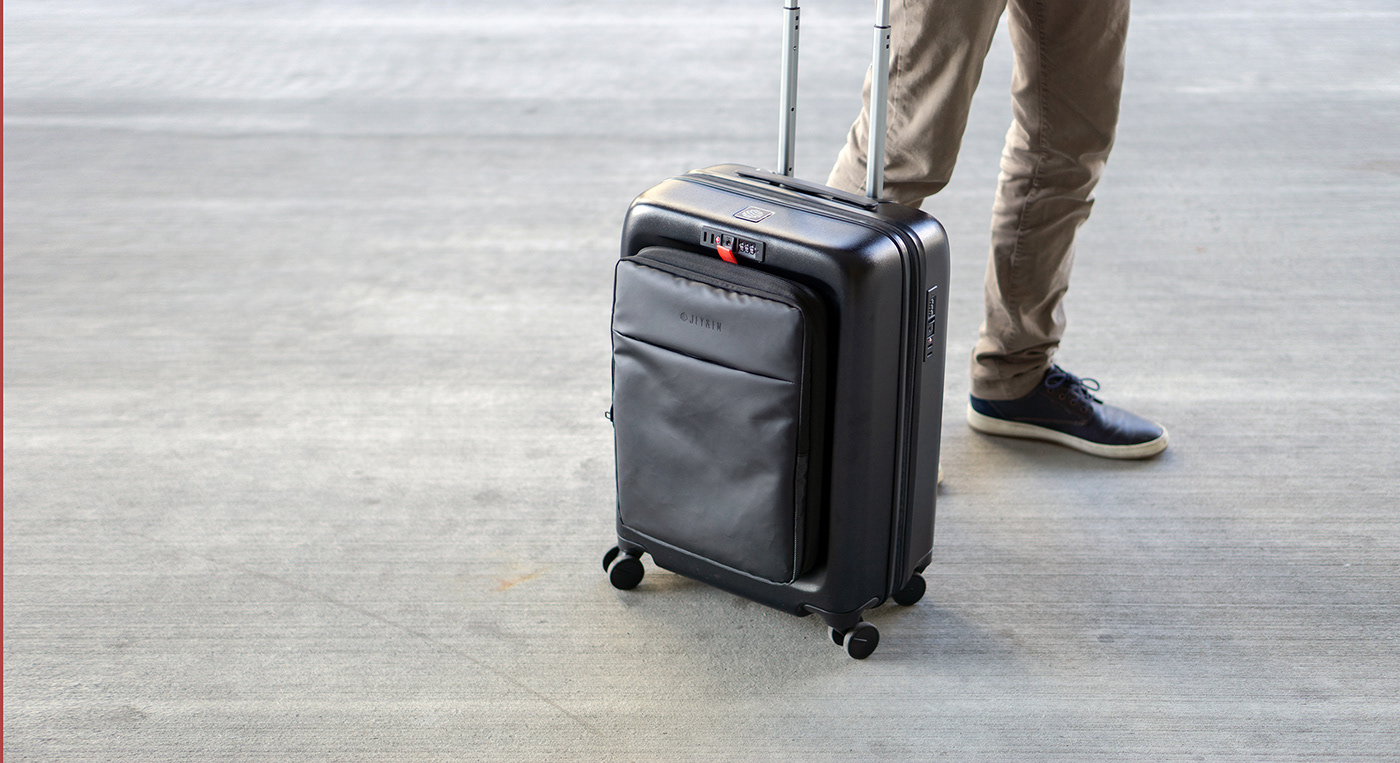box: (612, 163, 950, 627)
handle: (734, 166, 879, 211)
lock: (698, 225, 766, 263), (923, 283, 938, 365)
wheel: (828, 616, 880, 661), (602, 546, 644, 591), (888, 570, 927, 605)
